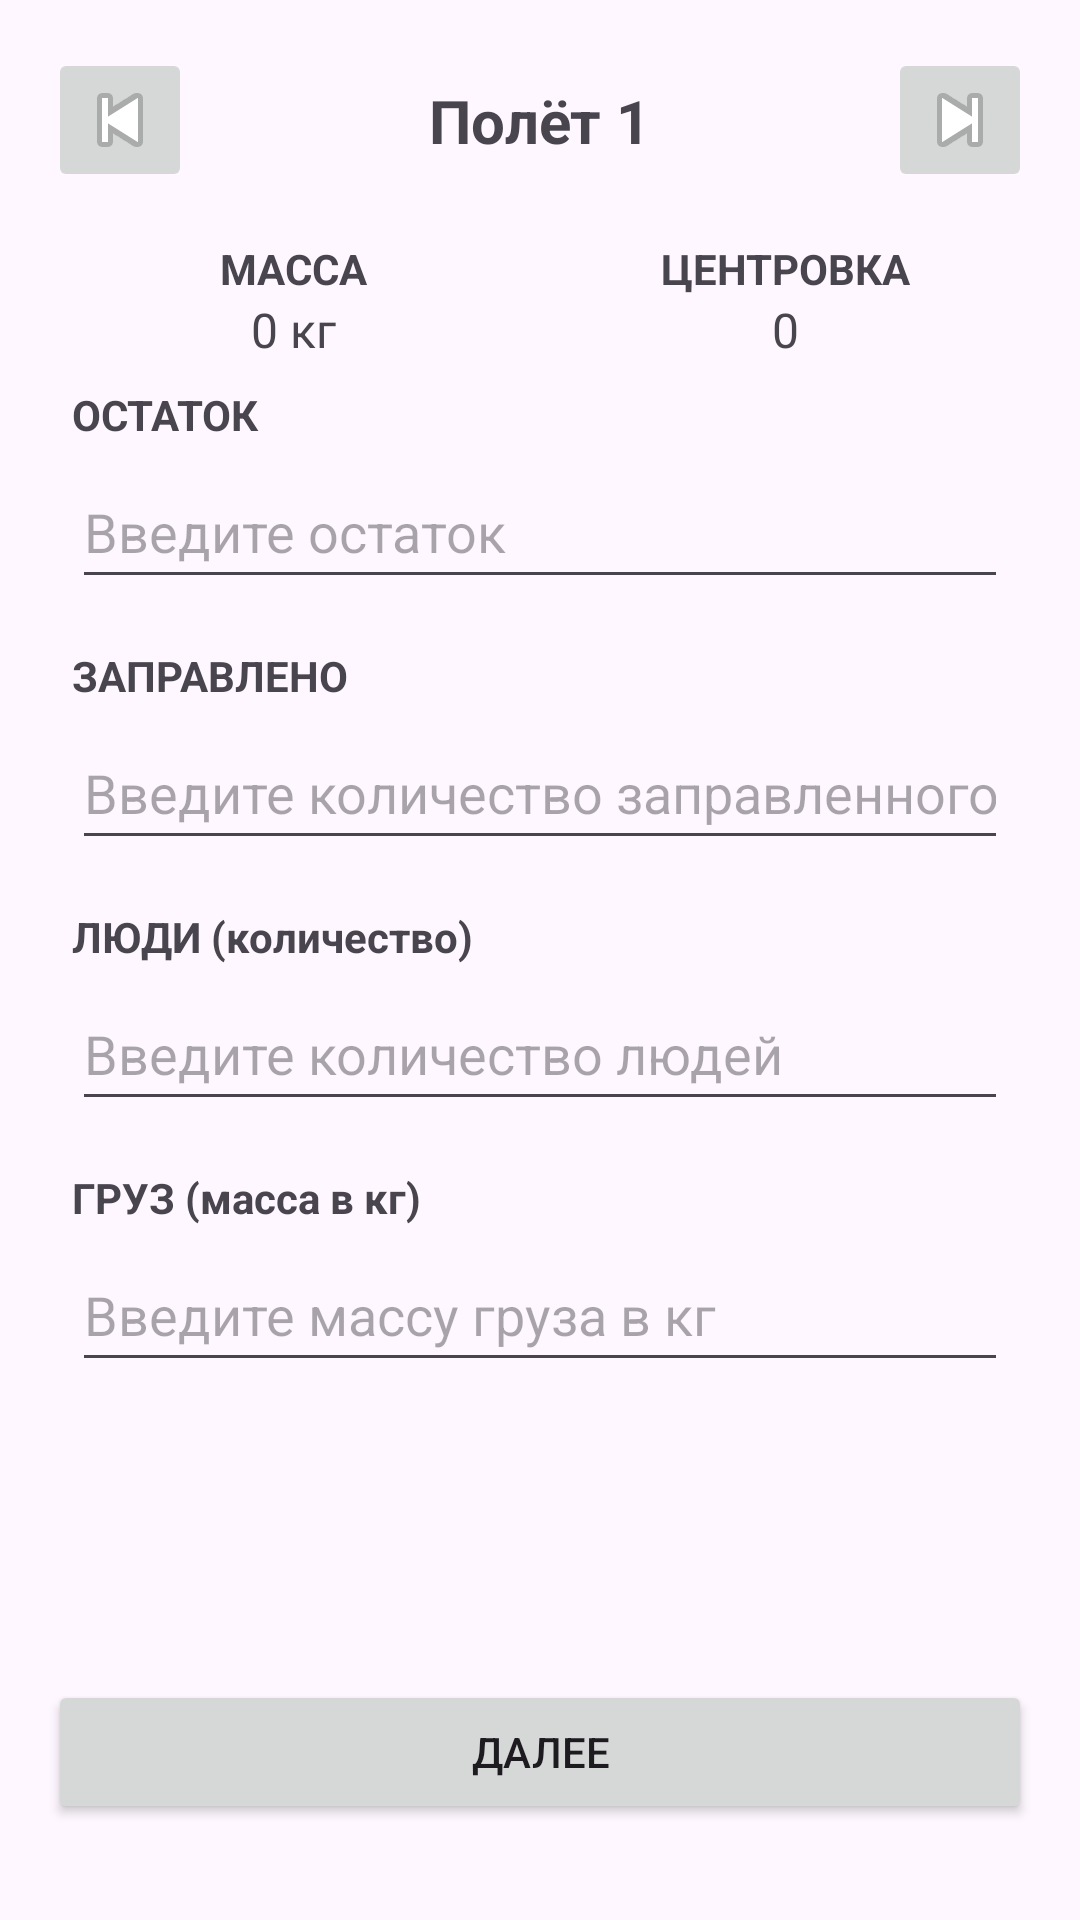

Screen size 1080px×1920px. Icon name, then its box in pixels as (x1, y1, x2, y2):
Вперёд: (900, 66, 1020, 174)
Назад: (60, 66, 180, 174)
